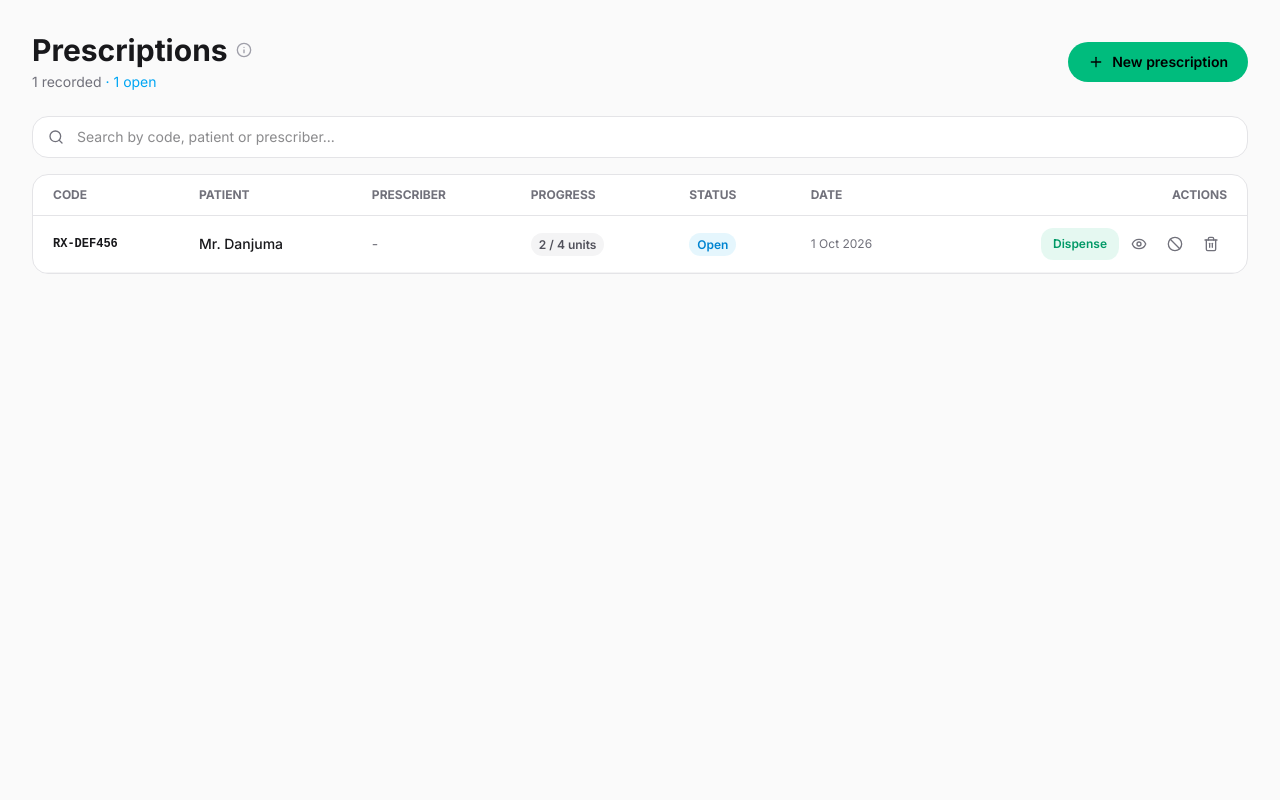
Test: Prescriptions page › shows dispensing history in the detail view
expect the text "RX-DEF456" is shown: met, box [33,216,179,272]
Click the button named "View RX-DEF456": (1139, 244) [1123,228,1155,260]
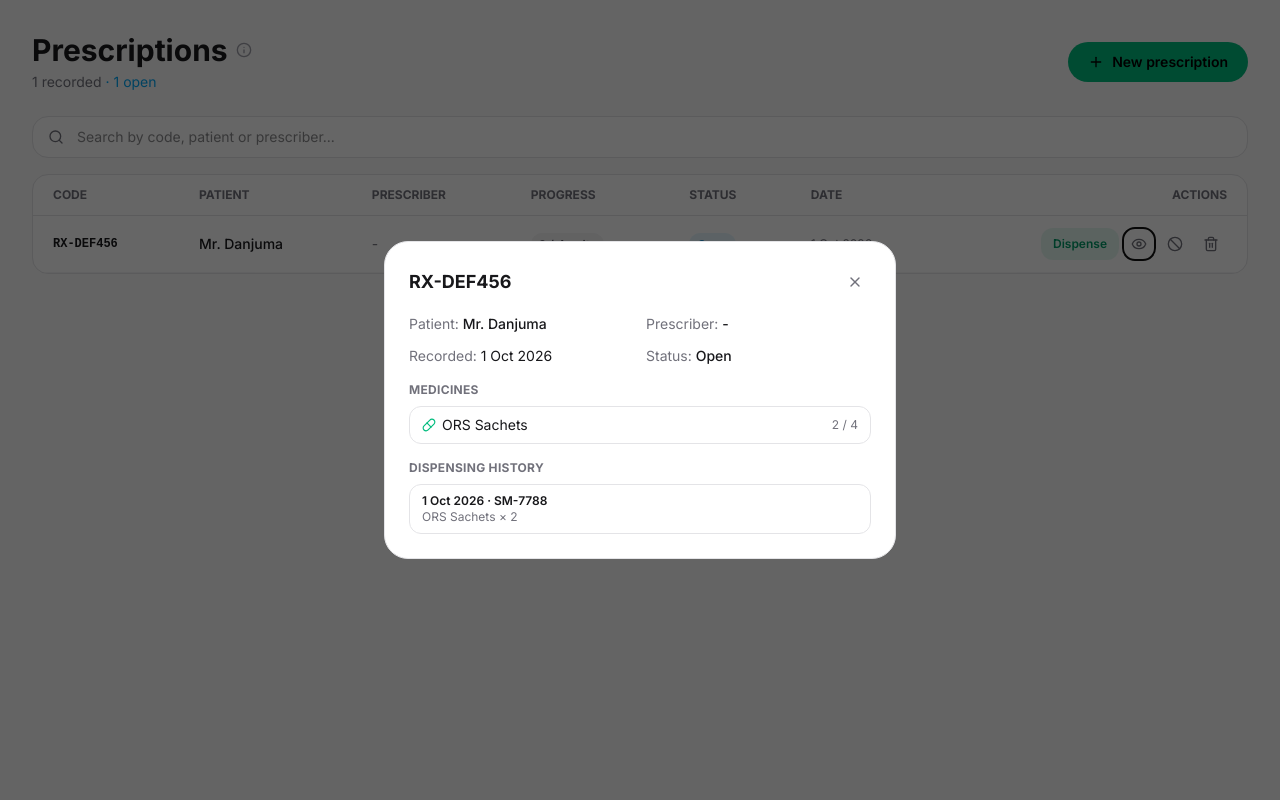
expect the text "Mr. Danjuma" is shown: met, box [463,315,547,332]
expect the text "2 / 4" is shown: met, box [832,417,858,433]
expect the text "1 Oct 2026 · SM-7788" is shown: met, box [422,493,547,508]
